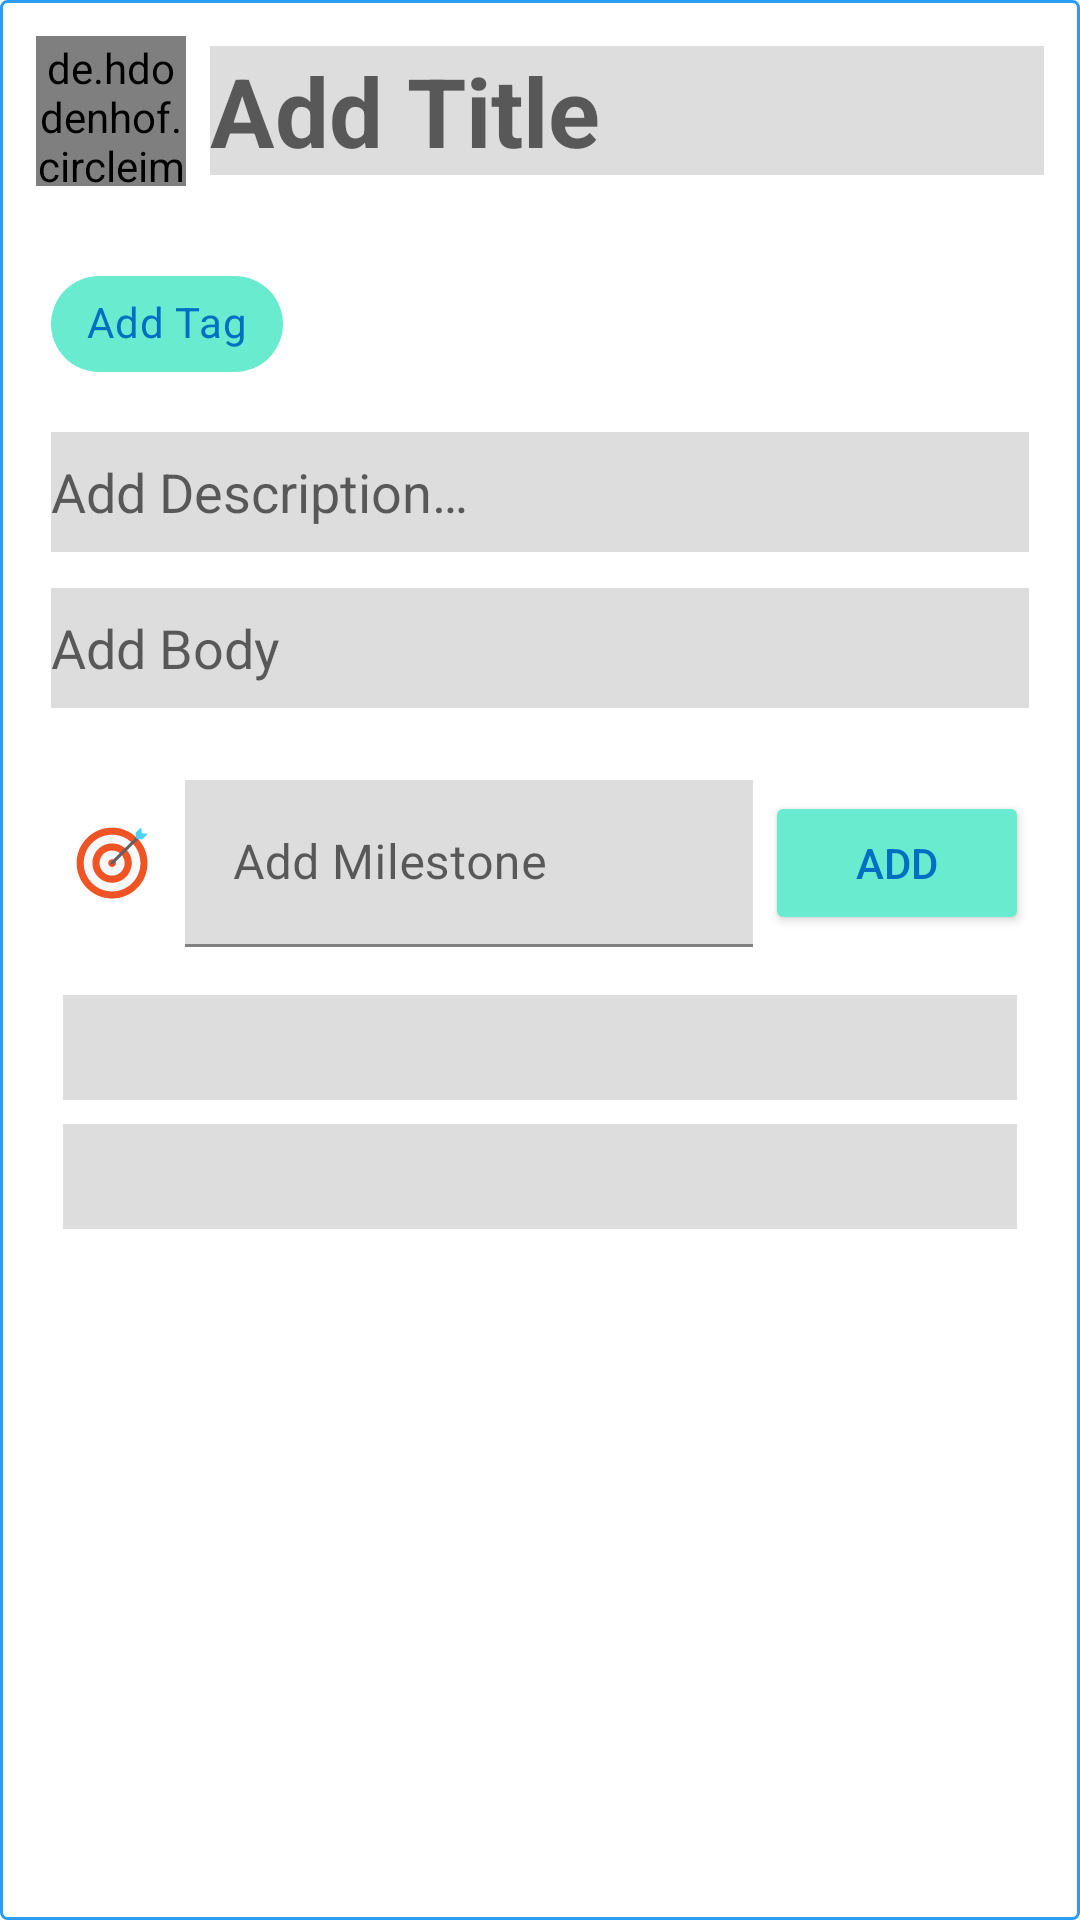

Icon bounding boxes for this 1080 x 1920 phone screenshot, format (x1, y1, x2, y2):
Milestones Icon: (76, 827, 148, 899)
